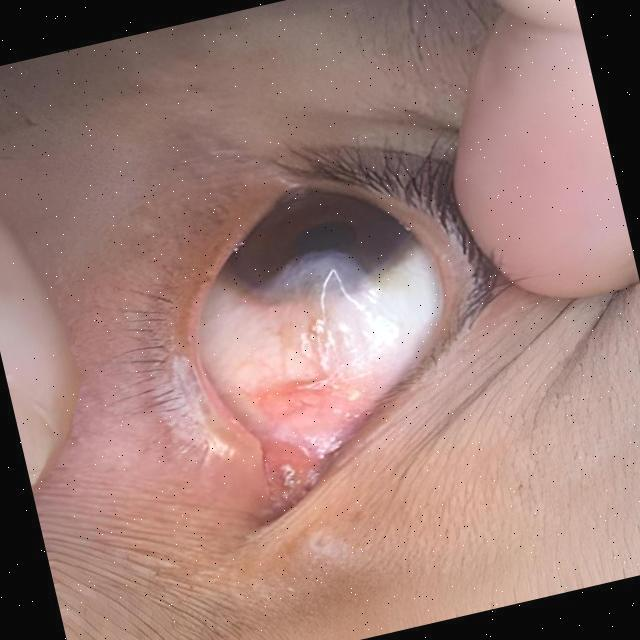Pterygium: (214, 236, 427, 467)
